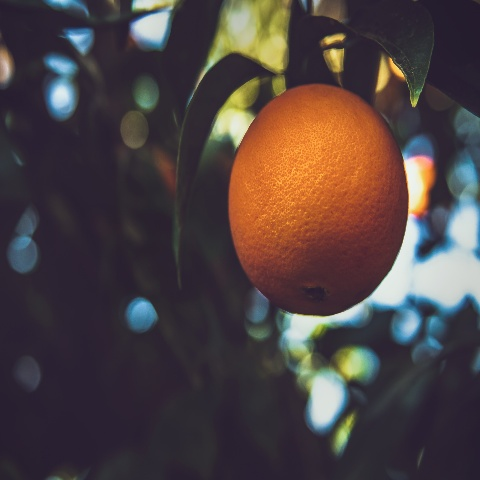orange: (210, 80, 445, 325)
